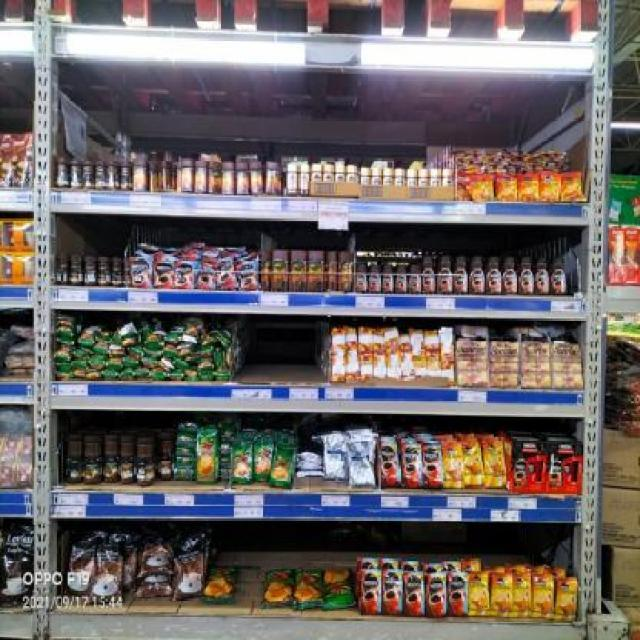Coffee: (484, 440, 506, 488), (442, 442, 464, 488), (378, 442, 400, 486), (491, 574, 512, 617), (464, 443, 485, 485), (402, 443, 423, 485), (533, 575, 554, 617), (469, 573, 489, 615), (556, 580, 577, 620), (424, 445, 443, 488), (362, 571, 380, 613), (383, 572, 401, 614), (513, 575, 531, 617), (427, 574, 445, 615), (448, 575, 466, 616), (405, 575, 423, 616), (130, 258, 151, 287), (518, 257, 534, 295), (469, 256, 485, 294), (438, 257, 454, 295), (550, 257, 566, 295), (501, 258, 517, 294), (238, 263, 258, 291), (155, 258, 174, 287), (421, 256, 435, 294), (454, 256, 468, 294), (175, 261, 194, 289), (487, 257, 501, 294), (540, 173, 558, 201), (562, 174, 581, 200), (535, 258, 548, 295), (498, 175, 516, 201), (519, 174, 538, 198), (197, 266, 216, 290), (218, 261, 234, 289), (395, 264, 407, 294), (383, 265, 395, 295), (408, 265, 420, 294), (356, 264, 368, 292), (368, 266, 380, 294), (300, 165, 310, 195), (289, 163, 298, 195), (360, 168, 371, 185), (384, 168, 394, 186), (395, 168, 405, 186), (408, 169, 418, 187), (444, 169, 454, 187), (346, 165, 357, 181), (335, 165, 345, 182), (373, 168, 382, 186), (420, 169, 429, 187), (323, 164, 332, 181), (431, 169, 440, 186), (312, 164, 320, 182)
